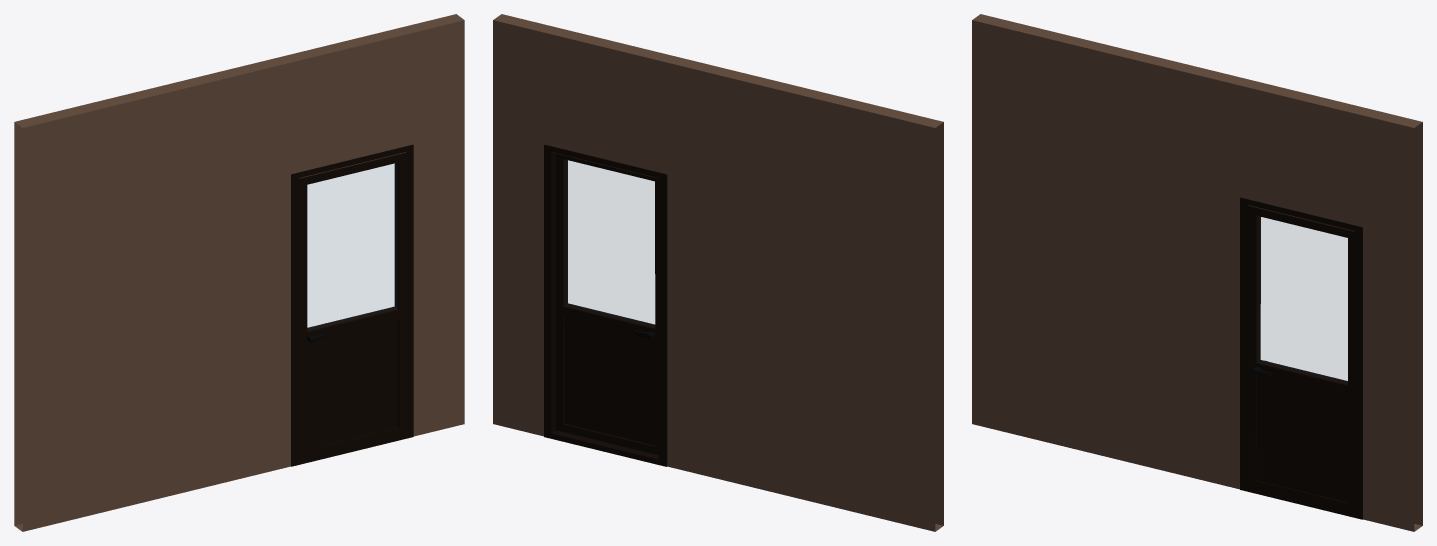
The picture shows the model from 3 angles, left to right: view 1: azimuth 30°, elevation 25°; view 2: azimuth 150°, elevation 25°; view 3: azimuth 330°, elevation 25°; orthographic projection.
Parts seen in each view (by area): view 1: inner_wall_room_type1_004, Inner_door_002; view 2: inner_wall_room_type1_004, Inner_door_002; view 3: inner_wall_room_type1_004, Inner_door_002.
Boxes of the visible parts, left/top/right/bottom form: inner_wall_room_type1_004: left=14, top=14, right=464, bottom=531; Inner_door_002: left=299, top=152, right=406, bottom=459; inner_wall_room_type1_004: left=493, top=14, right=943, bottom=531; Inner_door_002: left=556, top=153, right=658, bottom=454; inner_wall_room_type1_004: left=972, top=14, right=1422, bottom=531; Inner_door_002: left=1248, top=205, right=1354, bottom=512.
Bounding box in the file's own units: 309 × 270 × 15.92.
